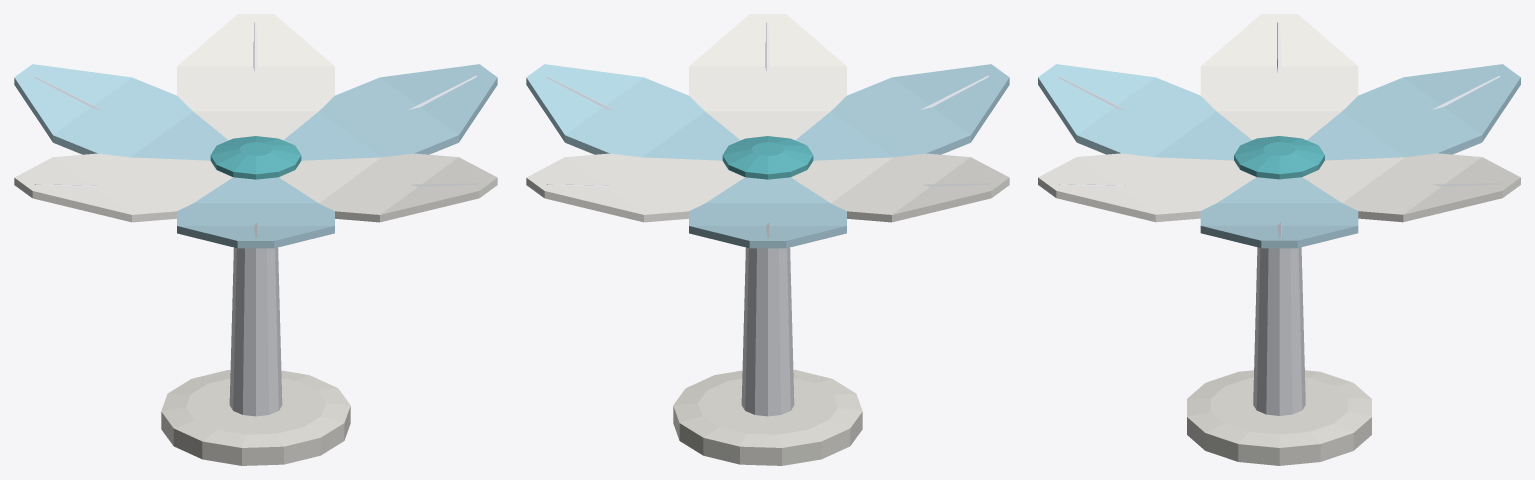
Rendered from arcology-towers-and-skyways-canopy-shelter-c1f7049b__23270.glb.
3 renders of one model, left to right at view 1: azimuth 30°, elevation 25°; view 2: azimuth 150°, elevation 25°; view 3: azimuth 270°, elevation 25°, orthographic.
Visible parts, largest first — view 1: canopy-shelter; view 2: canopy-shelter; view 3: canopy-shelter.
Boxes of the visible parts, x1,y1,x2,y2 form: canopy-shelter: (14, 14, 497, 465); canopy-shelter: (526, 14, 1009, 465); canopy-shelter: (1038, 14, 1520, 465).
Bounding box in the file's own units: 6.5 × 3.99 × 5.85.
